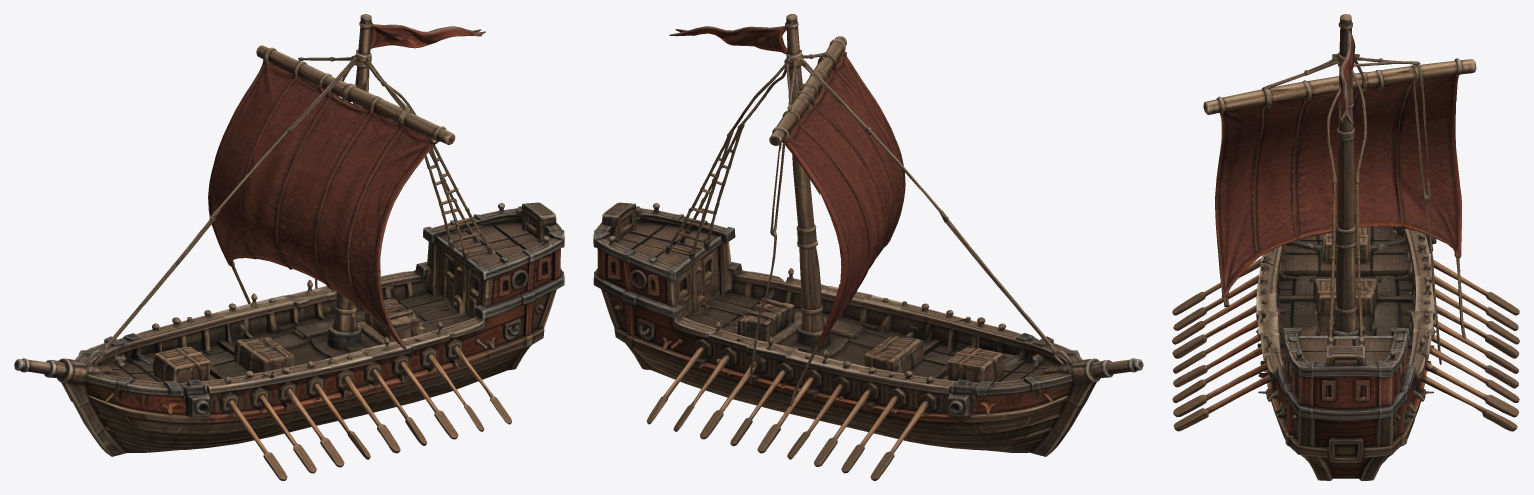
Rendered from crimson_tide_galley.glb.
3 renders of one model, left to right at view 1: azimuth 30°, elevation 25°; view 2: azimuth 150°, elevation 25°; view 3: azimuth 270°, elevation 25°, orthographic. The views are drawn at different scales.
Visible parts, largest first — view 1: output_unwrapped; view 2: output_unwrapped; view 3: output_unwrapped.
Boxes of the visible parts, x1,y1,x2,y2 form: output_unwrapped: [14, 14, 564, 480]; output_unwrapped: [593, 14, 1143, 480]; output_unwrapped: [1172, 14, 1519, 480].
Bounding box in the file's own units: 1.9 × 1.28 × 1.02.
1 material, 1 textured.
